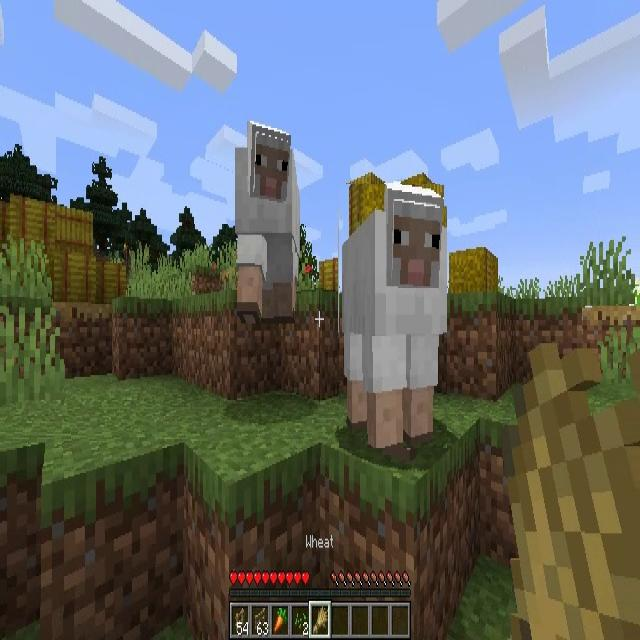sheep: (339, 184, 447, 448), (236, 120, 301, 317)
